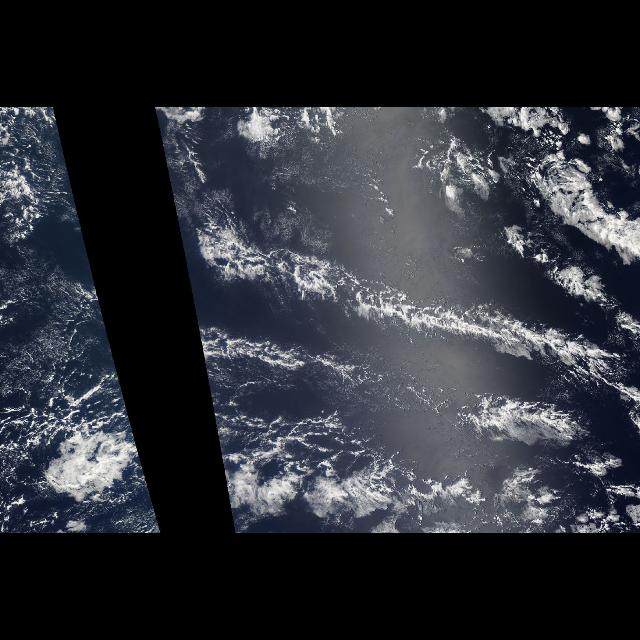Fish: (160, 134, 640, 532), (27, 145, 163, 531)
Sugar: (2, 114, 112, 386), (155, 114, 207, 348)
